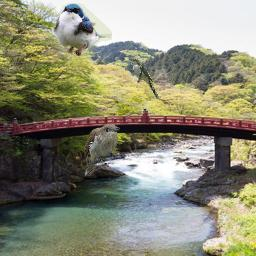Cuckoo: (83, 123, 120, 176), (128, 58, 159, 99)
Swallow: (51, 3, 112, 56)
